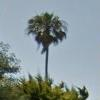Palm tree: (28, 8, 75, 84)
